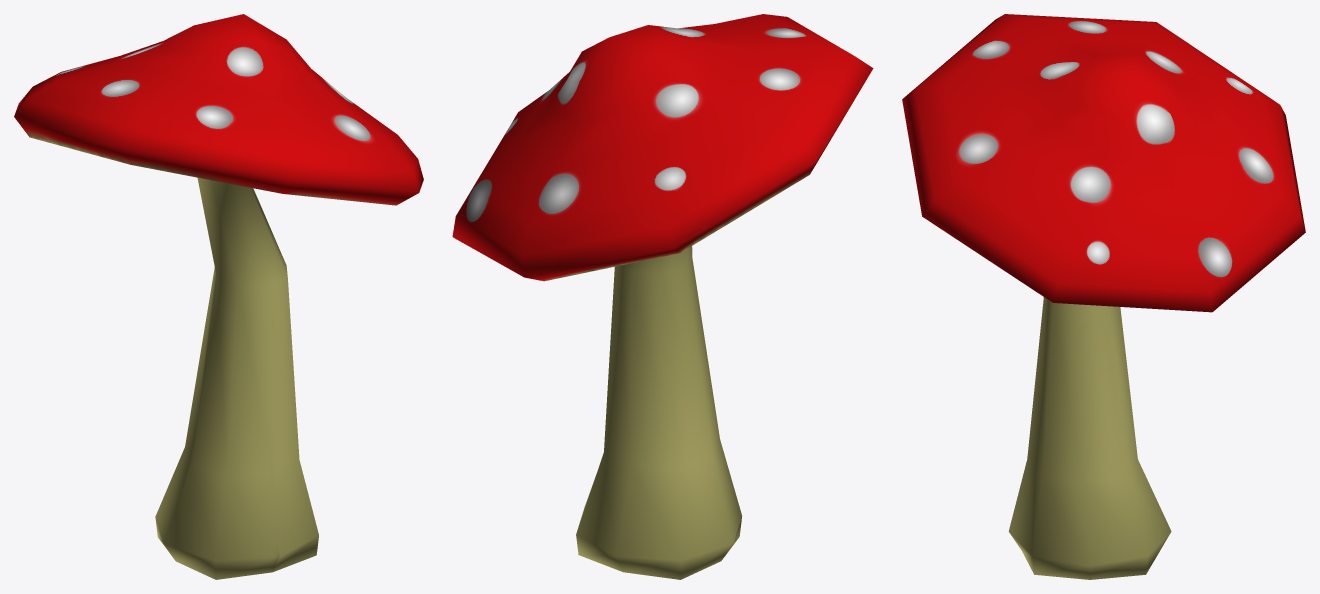
File: mmantar06.fbx
The picture shows the model from 3 angles, left to right: view 1: azimuth 30°, elevation 25°; view 2: azimuth 150°, elevation 25°; view 3: azimuth 270°, elevation 25°; orthographic projection. The views are drawn at different scales.
Parts seen in each view (by area): view 1: mmantar06; view 2: mmantar06; view 3: mmantar06.
Boxes of the visible parts, x1,y1,x2,y2 form: mmantar06: (14,14,423,579); mmantar06: (452,14,873,579); mmantar06: (902,14,1305,579).
Size of the model in its own units: 0.3021 by 0.3081 by 0.4126.
